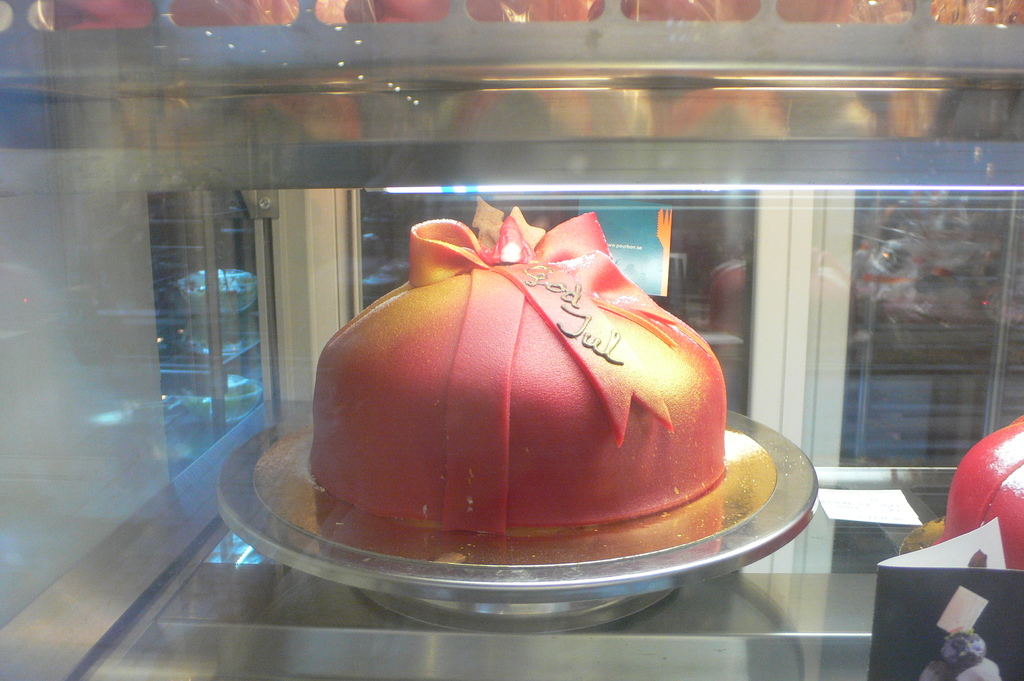cake: (314, 198, 725, 529), (941, 422, 1023, 575)
